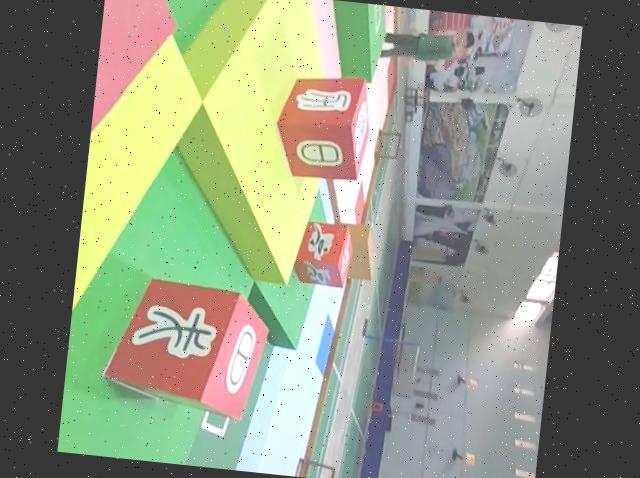R1: (292, 218, 354, 288)
R2 Fake: (100, 273, 275, 420), (271, 69, 375, 184)
